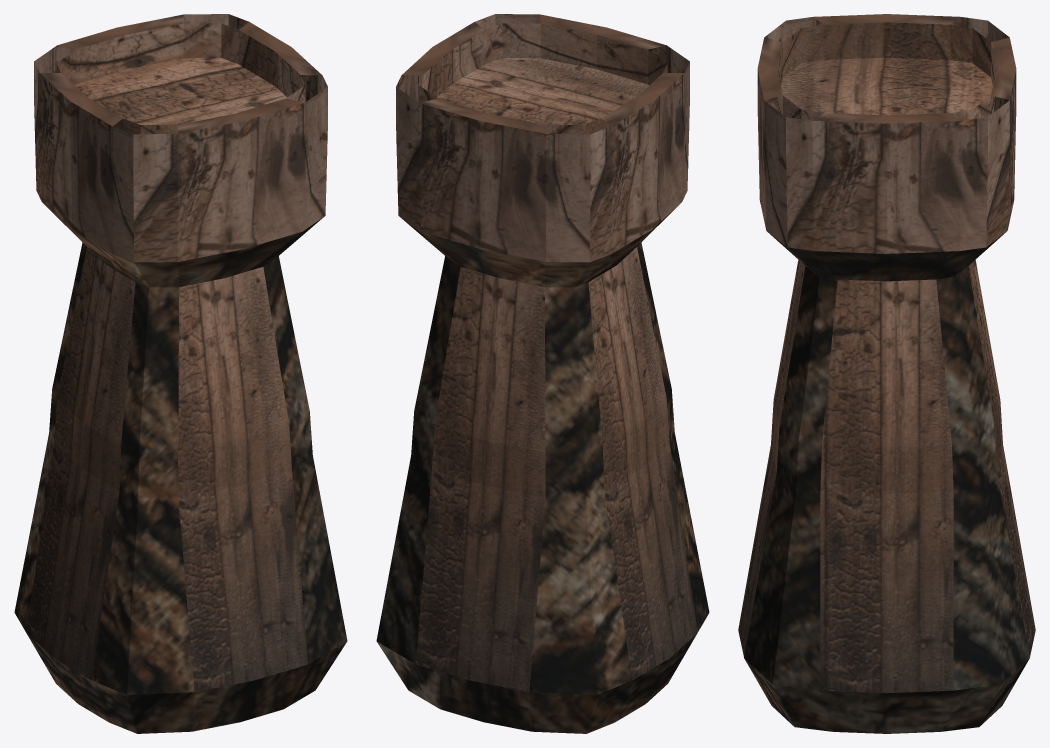
The model's file is toren1.fbx.
3 views of the same model, side by side, from view 1: azimuth 30°, elevation 25°; view 2: azimuth 150°, elevation 25°; view 3: azimuth 270°, elevation 25° (orthographic).
Visible parts, largest first — view 1: Cube; view 2: Cube; view 3: Cube.
Boxes of the visible parts, left/top/right/bottom form: Cube: left=14, top=14, right=347, bottom=733; Cube: left=376, top=14, right=709, bottom=733; Cube: left=738, top=14, right=1035, bottom=733.
Size of the model in its own units: 292 by 662 by 291.
